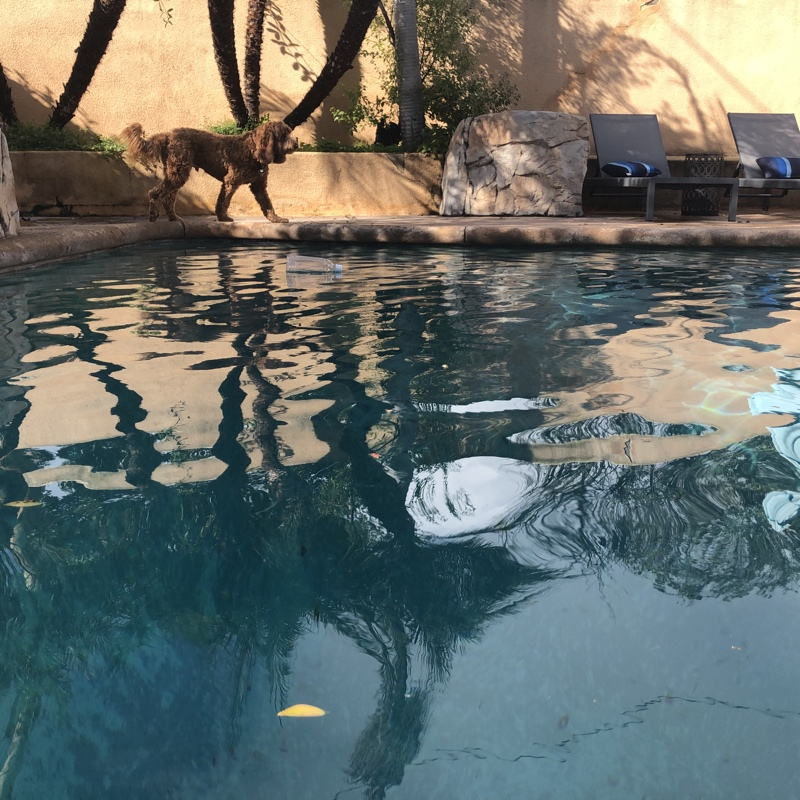Plastic Bottle: (283, 251, 345, 277)
